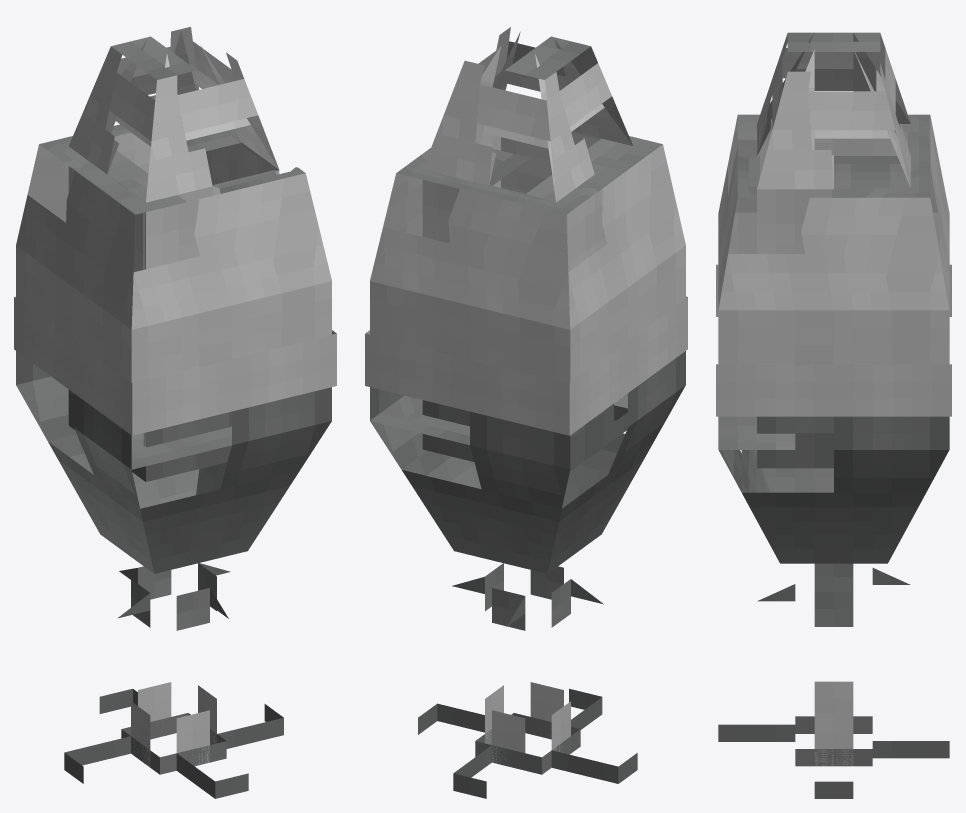
Rendered from mortar_6bcal.obj.
3 renders of one model, left to right at view 1: azimuth 30°, elevation 25°; view 2: azimuth 150°, elevation 25°; view 3: azimuth 270°, elevation 25°, orthographic.
Visible parts, largest first — view 1: casing, paint, core_canister, core_piercing, casing_simple; view 2: casing, paint, core_canister, core_piercing, casing_simple; view 3: casing, core_canister, paint, core_piercing, casing_simple.
Boxes of the visible parts, x1=… form: casing: x1=16, y1=124, x2=331, y2=798; paint: x1=14, y1=296, x2=336, y2=435; core_canister: x1=69, y1=26, x2=278, y2=202; core_piercing: x1=68, y1=31, x2=279, y2=481; casing_simple: x1=40, y1=129, x2=241, y2=214; casing: x1=370, y1=132, x2=685, y2=798; paint: x1=365, y1=296, x2=687, y2=435; core_canister: x1=422, y1=27, x2=632, y2=202; core_piercing: x1=422, y1=31, x2=632, y2=471; casing_simple: x1=398, y1=136, x2=662, y2=214; casing: x1=718, y1=114, x2=949, y2=798; core_canister: x1=757, y1=32, x2=910, y2=189; paint: x1=716, y1=264, x2=951, y2=416; core_piercing: x1=757, y1=33, x2=910, y2=468; casing_simple: x1=737, y1=114, x2=930, y2=197.
Bounding box in the file's own units: 0.3828 × 1.31 × 0.3828.
